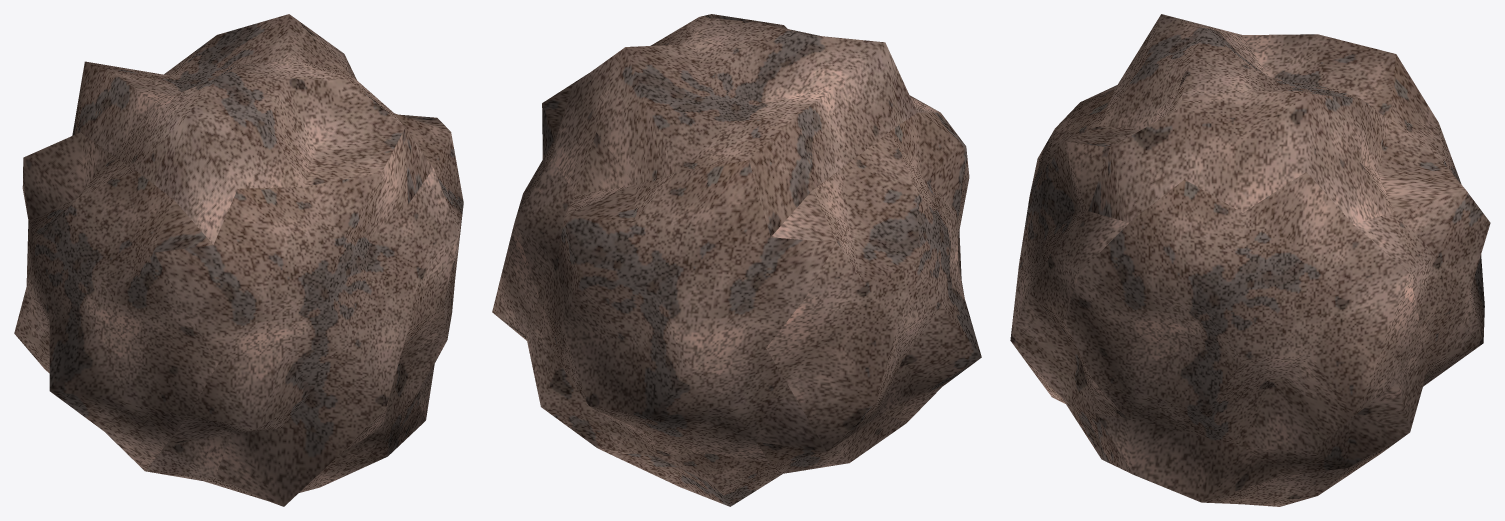
The model's file is W_Meteor.fbx.
The picture shows the model from 3 angles, left to right: view 1: azimuth 30°, elevation 25°; view 2: azimuth 150°, elevation 25°; view 3: azimuth 270°, elevation 25°; orthographic projection. The views are drawn at different scales.
Visible parts, largest first — view 1: W_Meteor; view 2: W_Meteor; view 3: W_Meteor.
Part boxes in pixels (x1,y1,x2,y2): W_Meteor: [14, 14, 463, 506]; W_Meteor: [492, 14, 981, 506]; W_Meteor: [1010, 14, 1490, 506].
Size of the model in its own units: 137 by 139 by 139.
